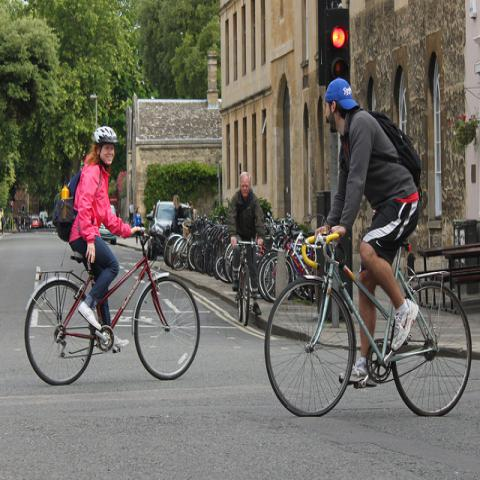car: (147, 198, 195, 262), (46, 219, 56, 229), (31, 218, 40, 229)
